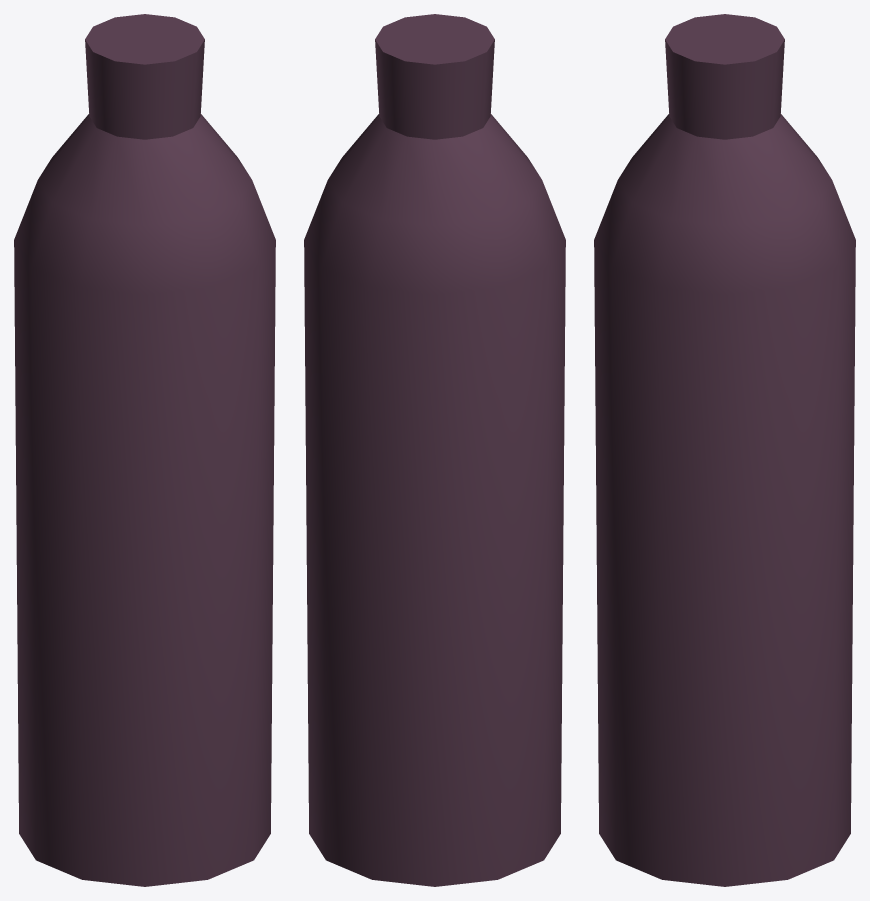
File: ThrashBottle1.fbx
3 views of the same model, side by side, from view 1: azimuth 30°, elevation 25°; view 2: azimuth 150°, elevation 25°; view 3: azimuth 270°, elevation 25° (orthographic).
Visible parts, largest first — view 1: Bottle1; view 2: Bottle1; view 3: Bottle1.
Part boxes in pixels (bbox=[...]): Bottle1: bbox=[14, 14, 275, 886]; Bottle1: bbox=[304, 14, 565, 886]; Bottle1: bbox=[594, 14, 855, 886].
Bounding box in the file's own units: 21.44 × 72.41 × 21.44.
